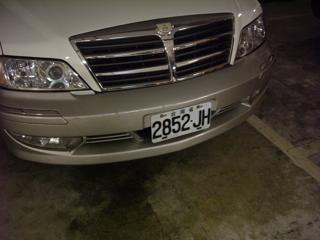plate: (149, 104, 212, 140)
